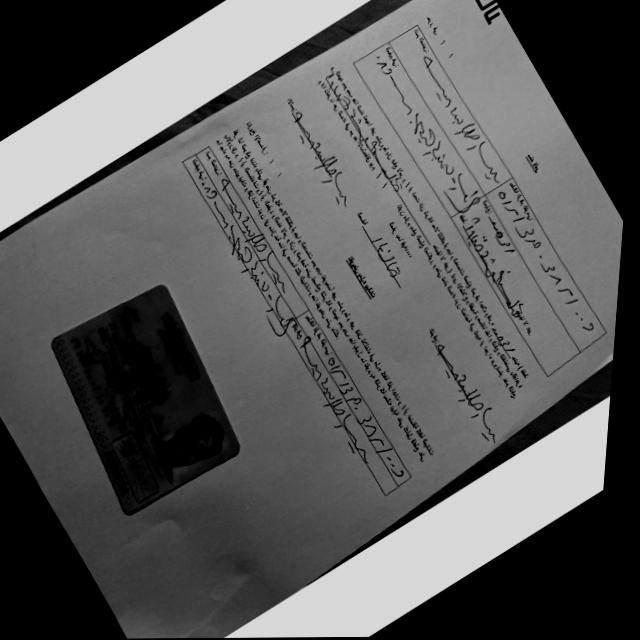front: (51, 284, 239, 512)
